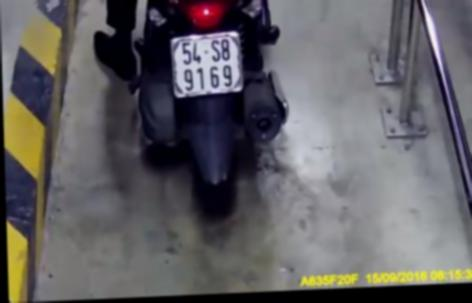License_Plate: (164, 27, 254, 99)
